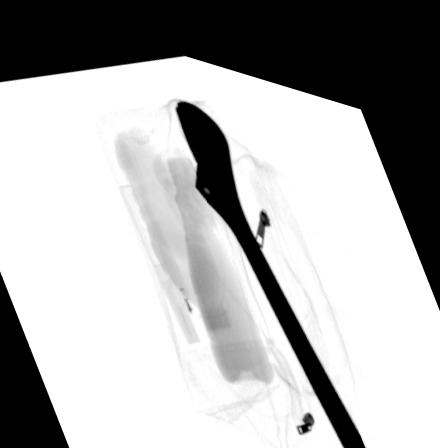Wrench: (174, 88, 380, 448)
